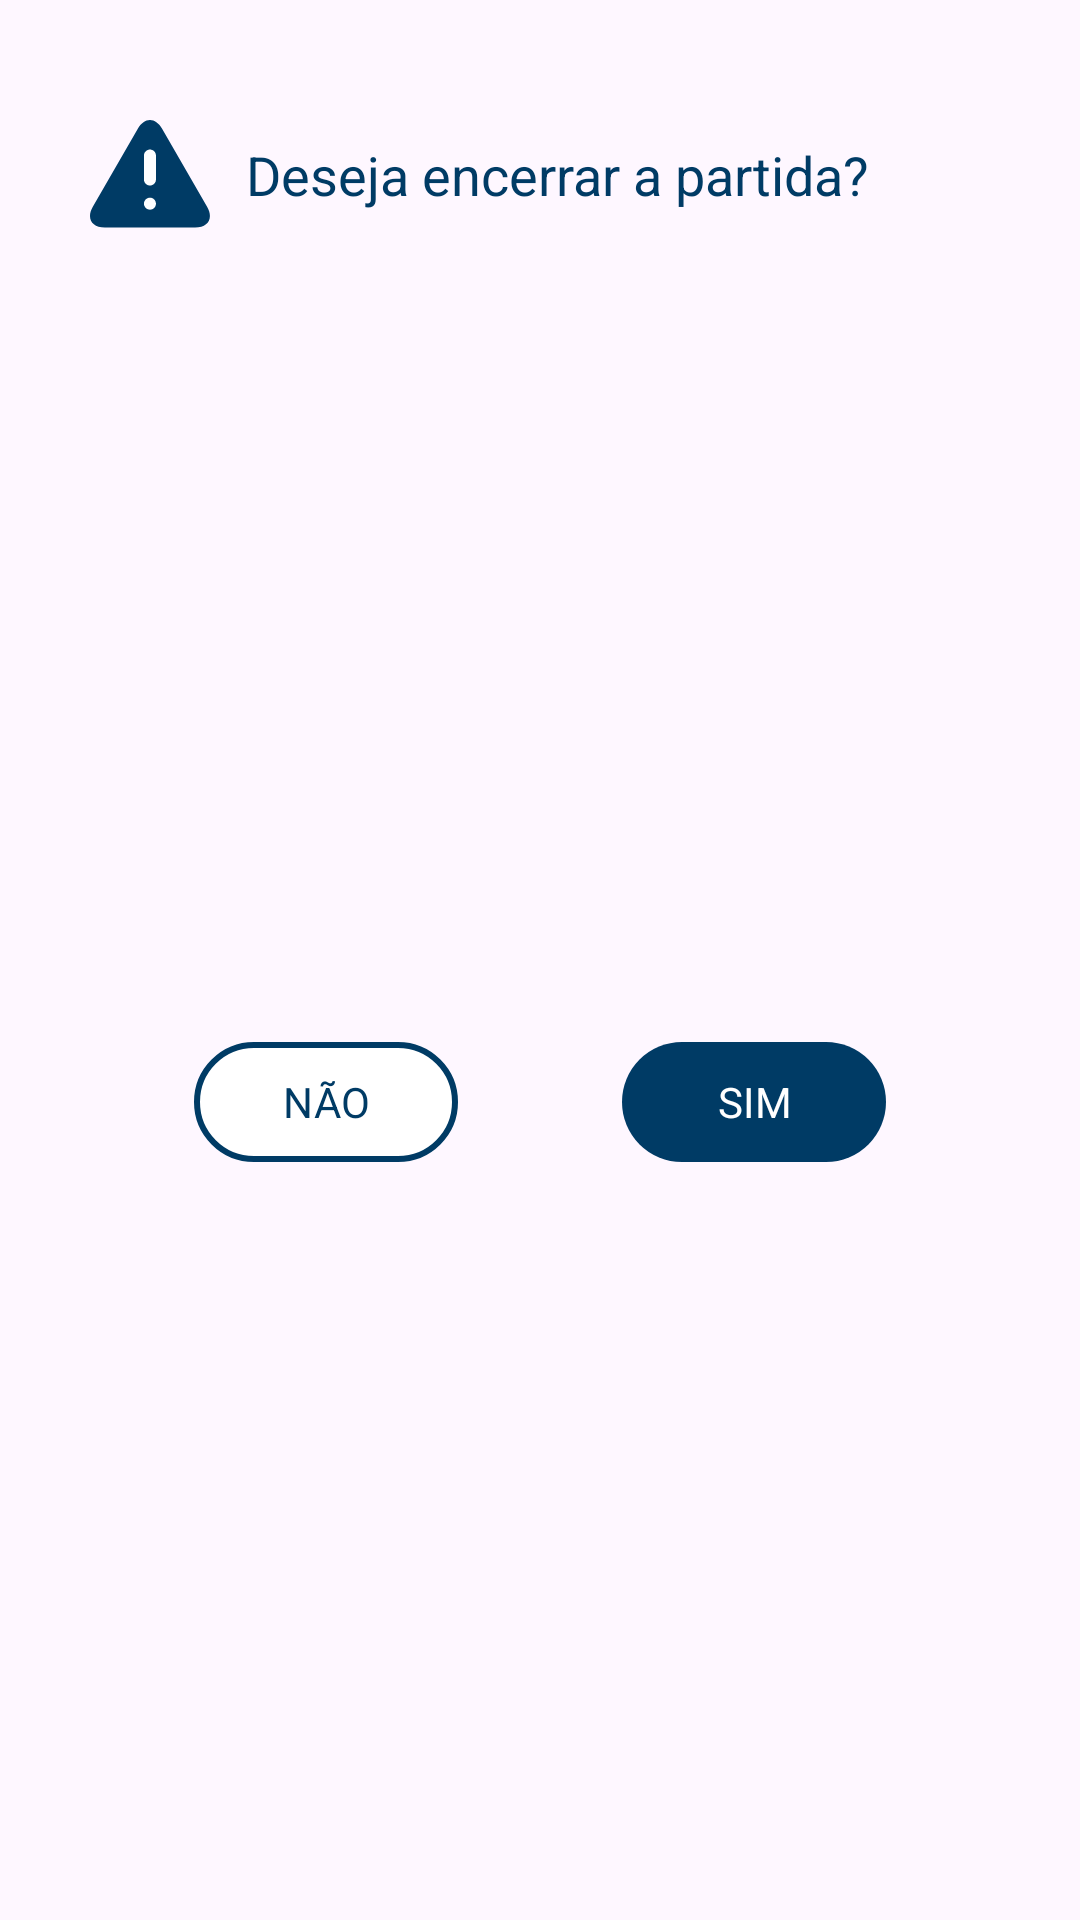

Locate icon controls on the screen. Image size 1080w x 1920h, boxes as region(x1, y1, x2, y2).
Imagem de alerta: region(90, 120, 210, 228)
